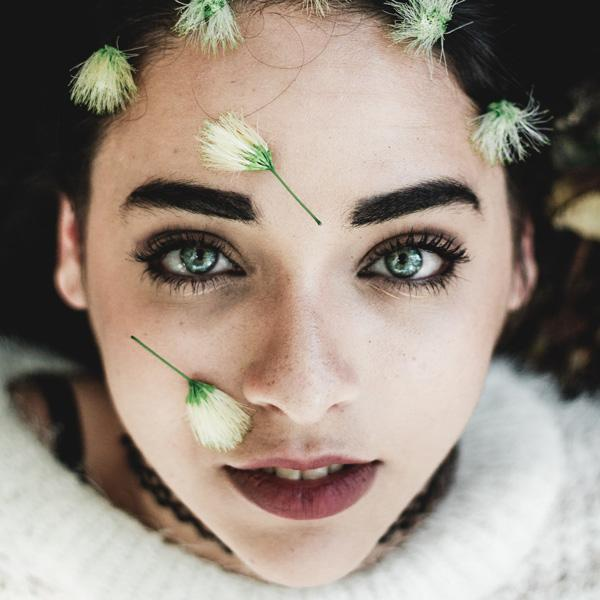Eyes: (128, 219, 255, 304), (352, 224, 469, 304)
